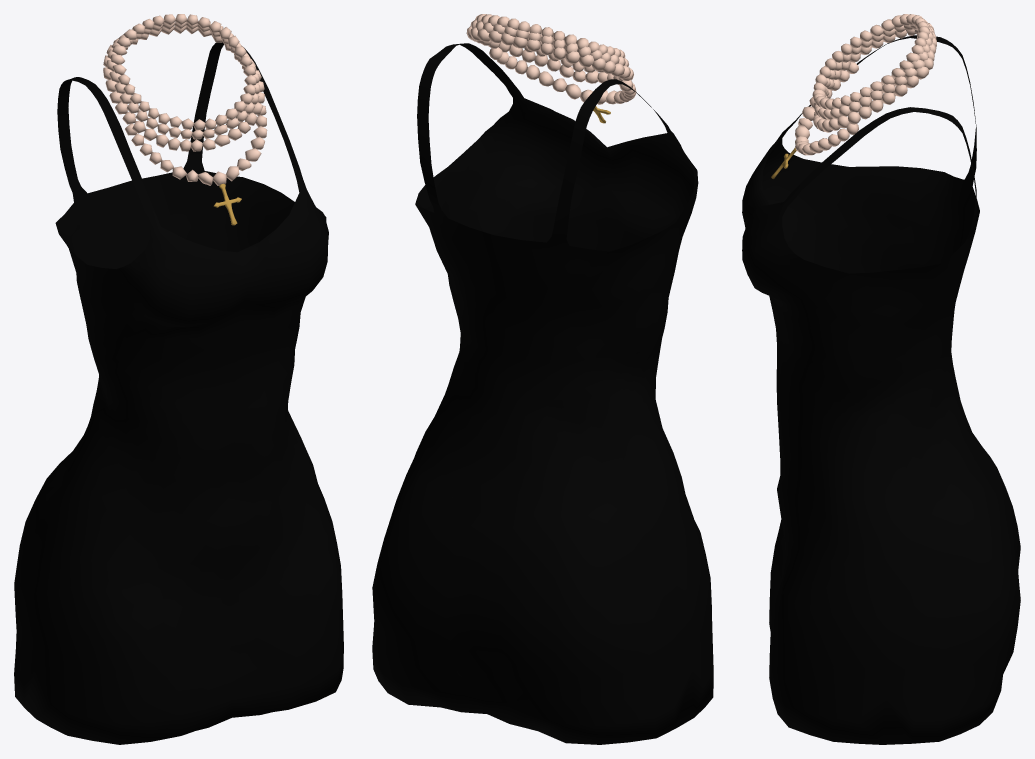
3 views of the same model, side by side, from view 1: azimuth 30°, elevation 25°; view 2: azimuth 150°, elevation 25°; view 3: azimuth 270°, elevation 25° (orthographic). The views are drawn at different scales.
Parts seen in each view (by area): view 1: Circle.004_9, Plane.001_1; view 2: Circle.004_9, Plane.001_1; view 3: Circle.004_9, Plane.001_1.
Part boxes in pixels (left/top/right/bottom): Circle.004_9: left=14, top=42, right=343, bottom=744; Plane.001_1: left=103, top=14, right=267, bottom=225; Circle.004_9: left=372, top=43, right=713, bottom=744; Plane.001_1: left=466, top=14, right=636, bottom=123; Circle.004_9: left=742, top=35, right=1020, bottom=744; Plane.001_1: left=771, top=14, right=936, bottom=178.
Bounding box in the file's own units: 13.32 × 28.79 × 11.22.
